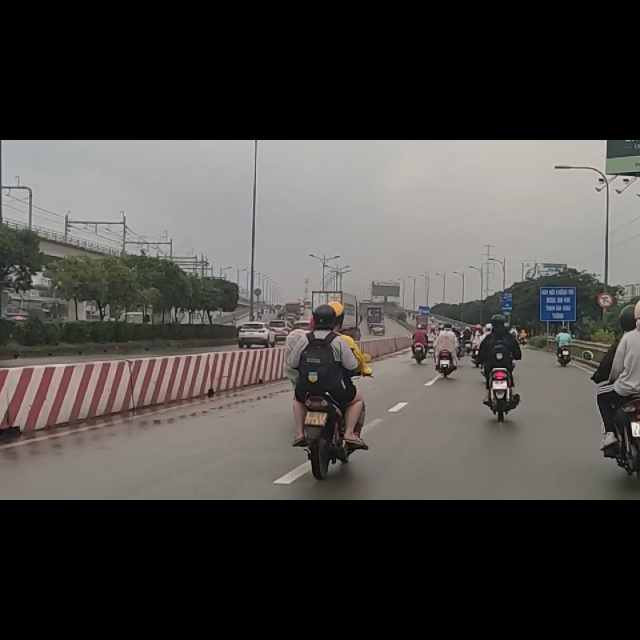bien_cam: (598, 268, 613, 299)
